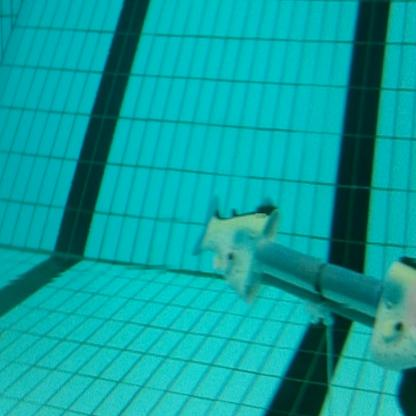tail: (191, 193, 280, 307)
